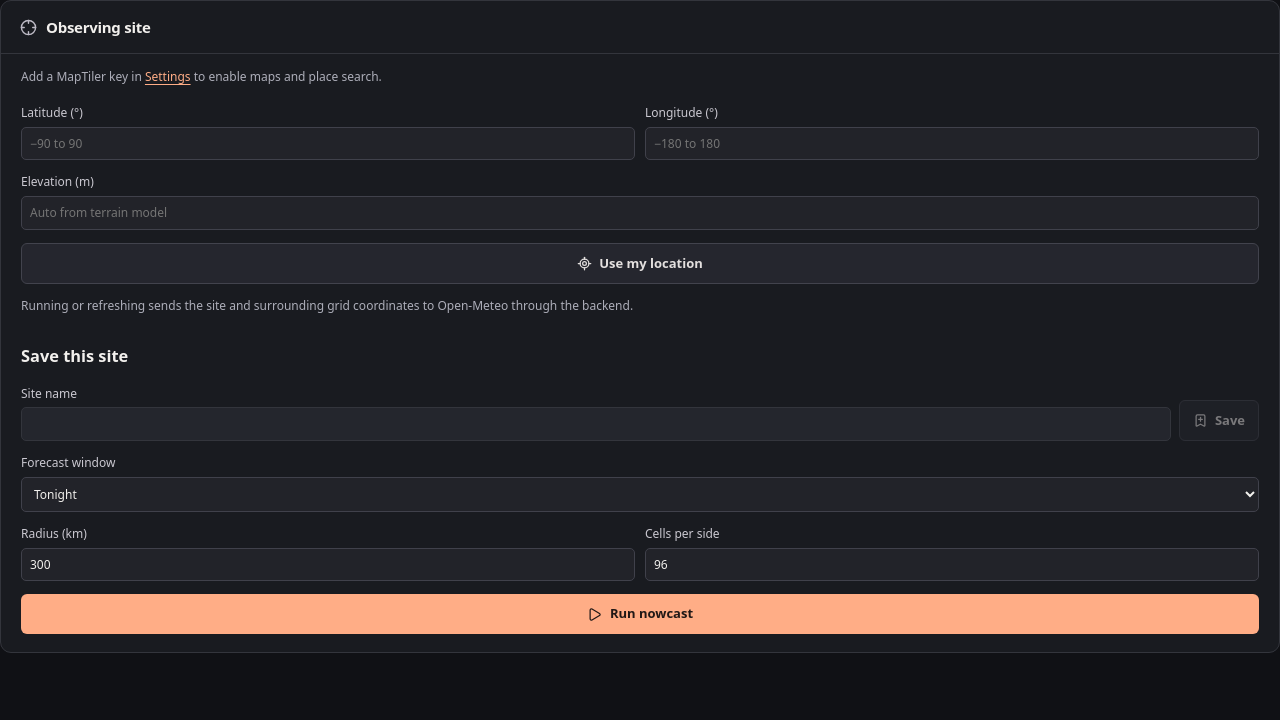
it: prevents running a grid that crosses a pole
Type "89.9" into the number field labelled "Latitude (°)". click: (328, 143)
box: [21,126,635,160]
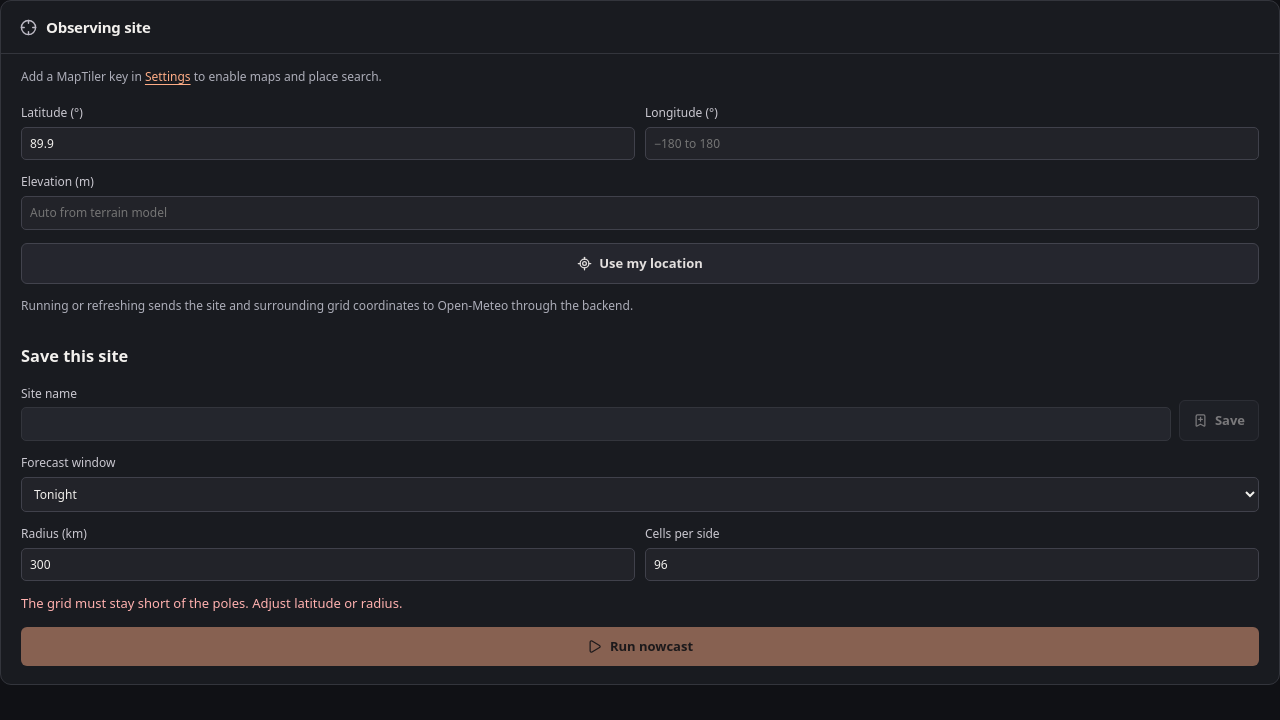
Expected: the message shows "poles", [21,594,402,612]
Expected: the button "Run nowcast" is disabled, [21,627,1259,666]
